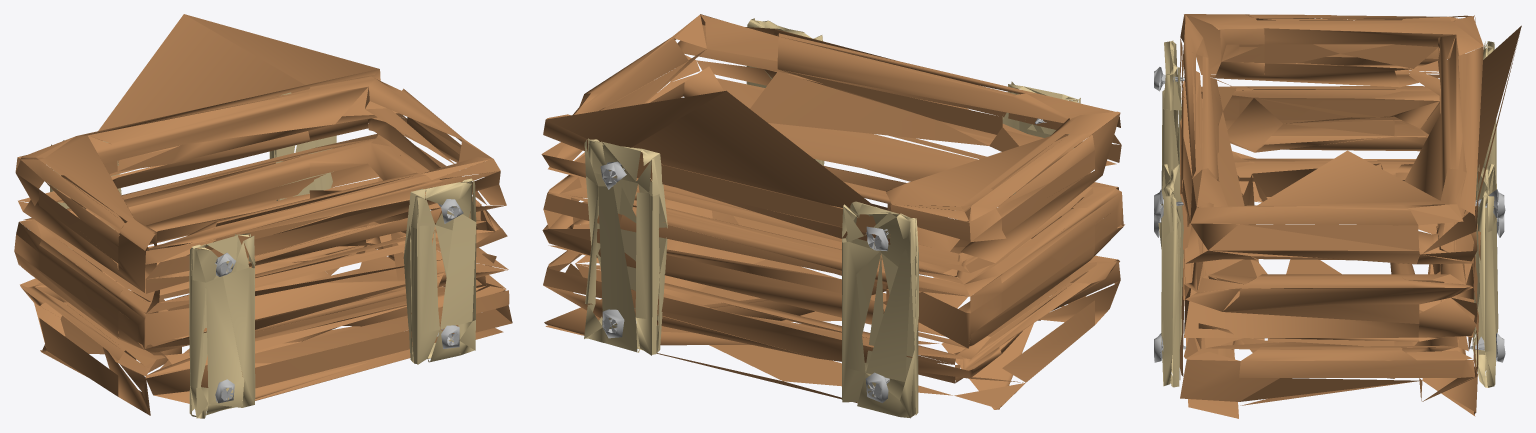
File: planter_box.glb
The picture shows the model from 3 angles, left to right: view 1: azimuth 30°, elevation 25°; view 2: azimuth 150°, elevation 25°; view 3: azimuth 270°, elevation 25°; orthographic projection. The views are drawn at different scales.
Parts seen in each view (by area): view 1: planter_box; view 2: planter_box; view 3: planter_box.
Part boxes in pixels (x1=…): planter_box: x1=14, y1=14, x2=512, y2=418; planter_box: x1=541, y1=14, x2=1124, y2=418; planter_box: x1=1154, y1=14, x2=1521, y2=418.
Bounding box in the file's own units: 1.27 × 0.8295 × 0.932.
